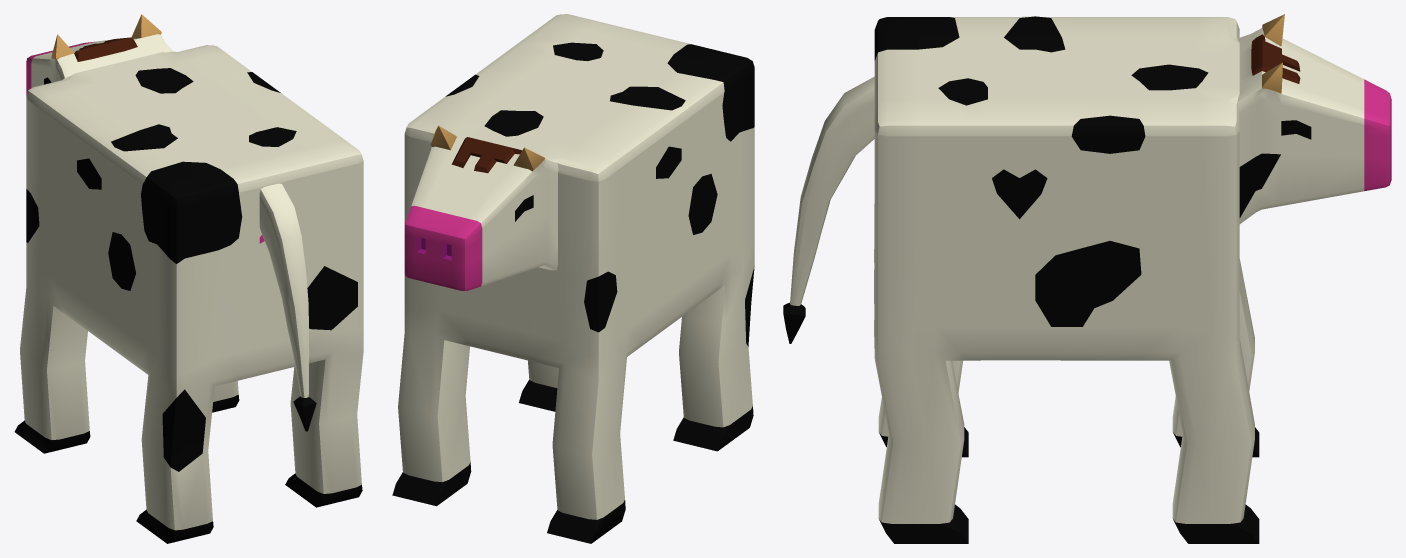
File: cow.fbx
3 renders of one model, left to right at view 1: azimuth 30°, elevation 25°; view 2: azimuth 150°, elevation 25°; view 3: azimuth 270°, elevation 25°, orthographic. The views are drawn at different scales.
Visible parts, largest first — view 1: Box009; view 2: Box009; view 3: Box009.
Part boxes in pixels (x1,y1,x2,y2): Box009: (14, 14, 363, 543); Box009: (392, 14, 754, 543); Box009: (783, 14, 1391, 543).
Size of the model in its own units: 19.58 by 36.83 by 45.11.
